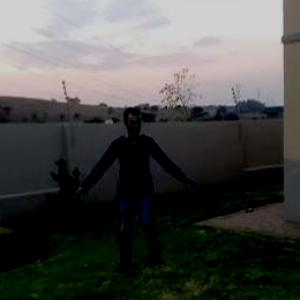land: (76, 98, 194, 274)
